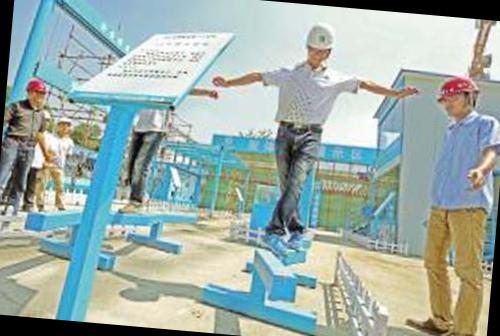helmet: (434, 74, 481, 102), (304, 20, 337, 53), (24, 76, 46, 94)
no_wear: (436, 116, 495, 214), (273, 62, 337, 131), (9, 100, 46, 152)
